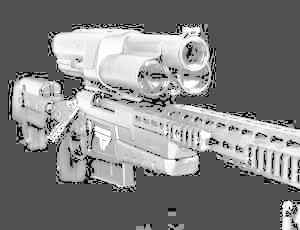sniper: (9, 22, 299, 200)
